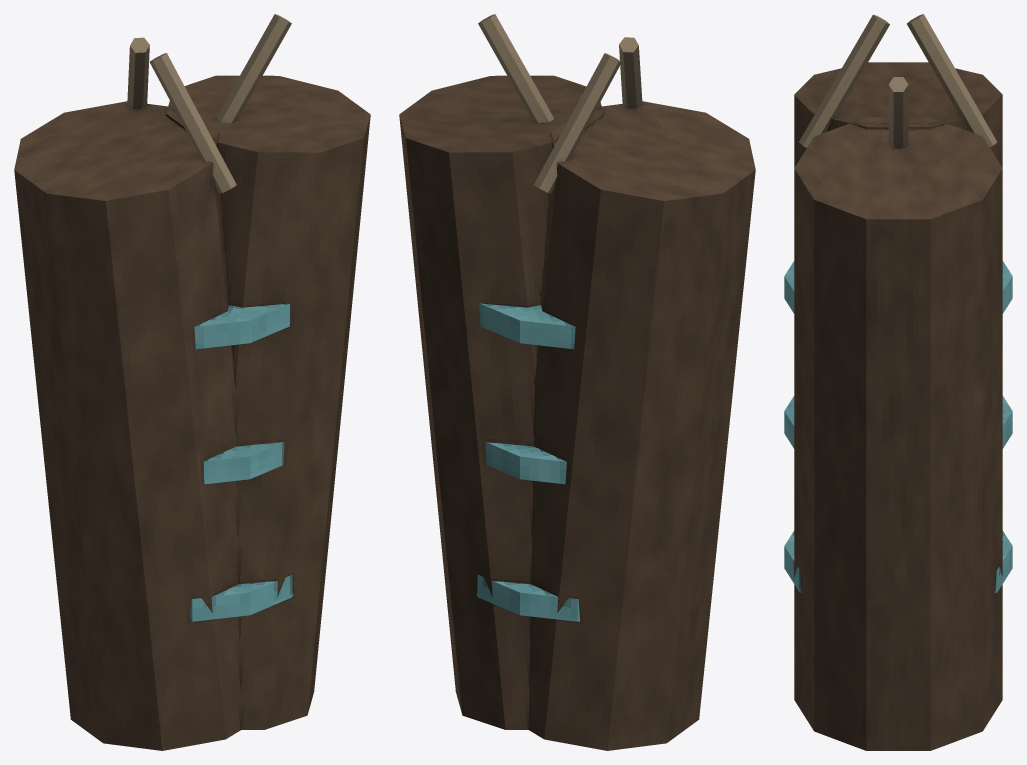
The model's file is arena_snow_totem.glb.
3 renders of one model, left to right at view 1: azimuth 30°, elevation 25°; view 2: azimuth 150°, elevation 25°; view 3: azimuth 270°, elevation 25°, orthographic.
Parts seen in each view (by area): view 1: arena_snow_totem; view 2: arena_snow_totem; view 3: arena_snow_totem.
Boxes of the visible parts, left/top/right/bottom form: arena_snow_totem: left=14, top=14, right=370, bottom=750; arena_snow_totem: left=399, top=14, right=755, bottom=750; arena_snow_totem: left=784, top=14, right=1012, bottom=750.
Size of the model in its own units: 1.5 by 2.95 by 0.92.
Materials: 3 (3 with a texture image).
